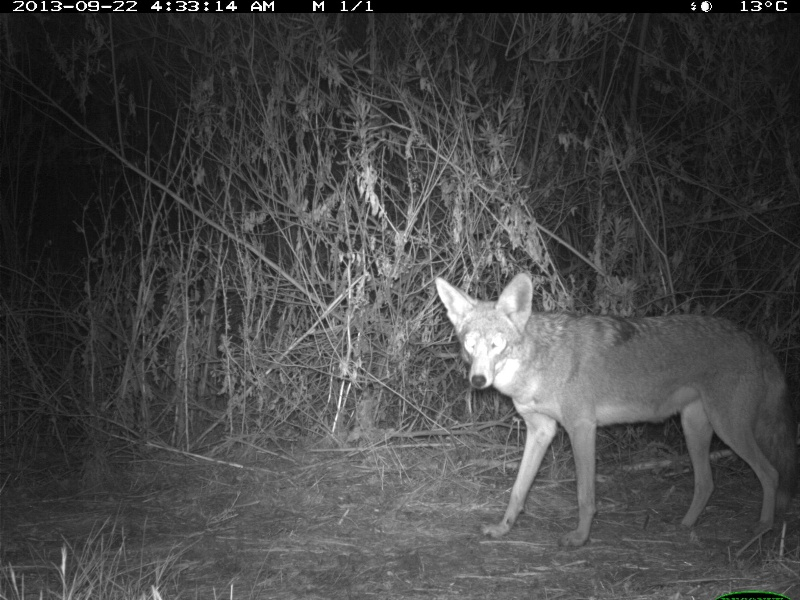coyote: (426, 268, 800, 555)
